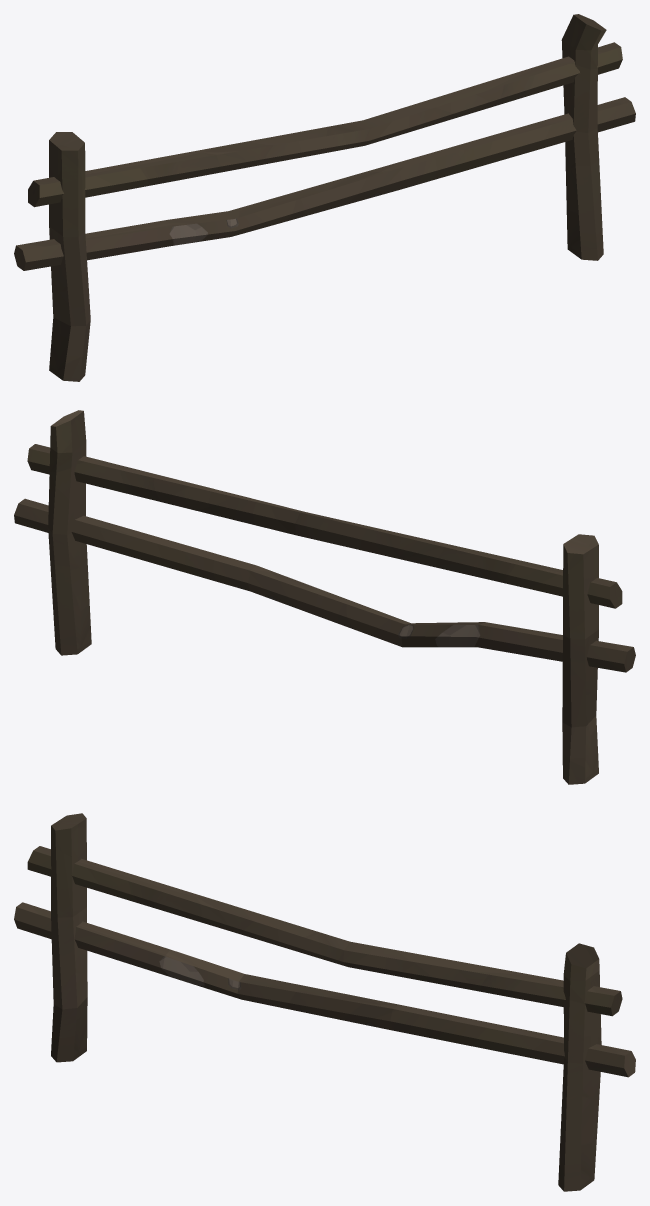
3 views of the same model, one above another, from view 1: azimuth 30°, elevation 25°; view 2: azimuth 150°, elevation 25°; view 3: azimuth 330°, elevation 25° (orthographic).
Visible parts, largest first — view 1: SM_Prop_Fence_01; view 2: SM_Prop_Fence_01; view 3: SM_Prop_Fence_01.
Boxes of the visible parts, x1=… form: SM_Prop_Fence_01: x1=14, y1=14, x2=635, y2=381; SM_Prop_Fence_01: x1=14, y1=410, x2=635, y2=784; SM_Prop_Fence_01: x1=14, y1=813, x2=635, y2=1191.
Size of the model in its own units: 2.98 by 1.09 by 0.2542.
Materials: 1 (1 with a texture image).
